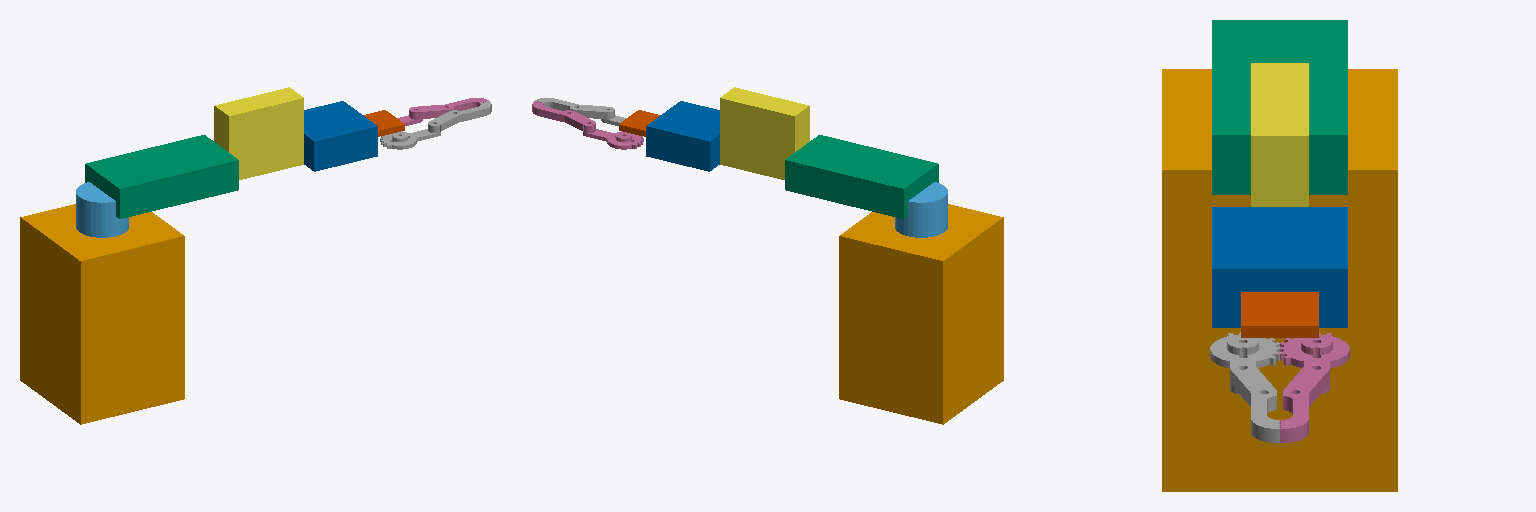
URDF robot description (mrm):
<?xml version="1.0" ?>
<!-- =================================================================================== -->
<!-- |    This document was autogenerated by xacro from arm.xacro                      | -->
<!-- |    EDITING THIS FILE BY HAND IS NOT RECOMMENDED                                 | -->
<!-- =================================================================================== -->
<robot name="mrm">
  <!-- END - Include -->
  <link name="base_link">
    <inertial>
      <mass value="1024"/>
      <origin rpy="0 0 0" xyz="0 0 0.0675"/>
      <inertia ixx="170.667" ixy="0" ixz="0" iyy="170.667" iyz="0" izz="170.667"/>
    </inertial>
    <collision>
      <origin rpy="0 0 0" xyz="0 0 0.0675"/>
      <geometry>
        <box size="0.09 0.09 0.135"/>
      </geometry>
    </collision>
    <visual>
      <origin rpy="0 0 0" xyz="0 0 0.0675"/>
      <geometry>
        <box size="0.09 0.09 0.135"/>
      </geometry>
    </visual>
  </link>
  <link name="link_01">
    <inertial>
      <mass value="0.01"/>
      <origin rpy="0 0 0" xyz="0 0 0.0145"/>
      <inertia ixx="1.0" ixy="0" ixz="0" iyy="1.0" iyz="0" izz="1.0"/>
    </inertial>
    <collision>
      <origin rpy="0 0 0" xyz="0 0 0.0145"/>
      <geometry>
        <cylinder length="0.029" radius="0.02"/>
      </geometry>
    </collision>
    <visual>
      <origin rpy="0 0 0" xyz="0 0 0.0145"/>
      <geometry>
        <cylinder length="0.029" radius="0.02"/>
      </geometry>
    </visual>
  </link>
  <link name="link_02">
    <inertial>
      <mass value="0.1"/>
      <origin rpy="0 0 0" xyz="0.0515 0 0"/>
      <inertia ixx="0.1" ixy="0" ixz="0" iyy="0.1" iyz="0" izz="0.1"/>
    </inertial>
    <collision>
      <origin rpy="0 0 0" xyz="0.0515 0 0"/>
      <geometry>
        <box size="0.103 0.052 0.025"/>
      </geometry>
    </collision>
    <visual>
      <origin rpy="0 0 0" xyz="0.0515 0 0"/>
      <geometry>
        <box size="0.103 0.052 0.025"/>
      </geometry>
    </visual>
  </link>
  <link name="link_03">
    <inertial>
      <mass value="0.1"/>
      <origin rpy="0 0 0" xyz="0.0325 0 0"/>
      <inertia ixx="0.1" ixy="0" ixz="0" iyy="0.1" iyz="0" izz="0.1"/>
    </inertial>
    <collision>
      <origin rpy="0 0 0" xyz="0.0325 0 0"/>
      <geometry>
        <box size="0.065 0.022 0.055"/>
      </geometry>
    </collision>
    <visual>
      <origin rpy="0 0 0" xyz="0.0325 0 0"/>
      <geometry>
        <box size="0.065 0.022 0.055"/>
      </geometry>
    </visual>
  </link>
  <link name="link_04">
    <inertial>
      <mass value="0.1"/>
      <origin rpy="0 0 0" xyz="0.0275 0 0"/>
      <inertia ixx="0.1" ixy="0" ixz="0" iyy="0.1" iyz="0" izz="0.1"/>
    </inertial>
    <collision>
      <origin rpy="0 0 0" xyz="0.0275 0 0"/>
      <geometry>
        <box size="0.055 0.052 0.025"/>
      </geometry>
    </collision>
    <visual>
      <origin rpy="0 0 0" xyz="0.0275 0 0"/>
      <geometry>
        <box size="0.055 0.052 0.025"/>
      </geometry>
    </visual>
  </link>
  <link name="link_05">
    <inertial>
      <mass value="0.1"/>
      <origin rpy="0 0 0" xyz="0.015 0 0"/>
      <inertia ixx="0.1" ixy="0" ixz="0" iyy="0.1" iyz="0" izz="0.1"/>
    </inertial>
    <collision>
      <origin rpy="0 0 0" xyz="0.015 0 0"/>
      <geometry>
        <box size="0.03 0.03 0.005"/>
      </geometry>
    </collision>
    <visual>
      <origin rpy="0 0 0" xyz="0.015 0 0"/>
      <geometry>
        <box size="0.03 0.03 0.005"/>
      </geometry>
    </visual>
  </link>
  <link name="link_clawR">
    <inertial>
      <mass value="0.1"/>
      <origin rpy="0 0 0" xyz="-0.03 -0.014 -0.005"/>
      <inertia ixx="0.1" ixy="0" ixz="0" iyy="0.1" iyz="0" izz="0.1"/>
    </inertial>
    <collision>
      <origin rpy="0 0 0" xyz="-0.03 -0.014 -0.005"/>
      <geometry>
        <mesh filename="package://arm_model/meshes/gripperRight.stl" scale="0.001 0.001 0.001"/>
      </geometry>
    </collision>
    <visual>
      <origin rpy="0 0 0" xyz="-0.03 -0.014 -0.005"/>
      <geometry>
        <mesh filename="package://arm_model/meshes/gripperRight.stl" scale="0.001 0.001 0.001"/>
      </geometry>
      <material name="light_black"/>
    </visual>
  </link>
  <link name="link_clawL">
    <inertial>
      <mass value="0.1"/>
      <origin rpy="0 0 0" xyz="-0.03 0.014 -0.005"/>
      <inertia ixx="0.1" ixy="0" ixz="0" iyy="0.1" iyz="0" izz="0.1"/>
    </inertial>
    <collision>
      <origin rpy="0 0 0" xyz="-0.03 0.014 -0.005"/>
      <geometry>
        <mesh filename="package://arm_model/meshes/gripperLeft.stl" scale="0.001 0.001 0.001"/>
      </geometry>
    </collision>
    <visual>
      <origin rpy="0 0 0" xyz="-0.03 0.014 -0.005"/>
      <geometry>
        <mesh filename="package://arm_model/meshes/gripperLeft.stl" scale="0.001 0.001 0.001"/>
      </geometry>
      <material name="light_black"/>
    </visual>
  </link>
  <joint name="base_link__link_01" type="revolute">
    <axis xyz="0 0 1"/>
    <limit effort="1000" lower="-1.5708" upper="1.5708" velocity="0.5"/>
    <origin rpy="0 0 0" xyz="0 0 0.135"/>
    <parent link="base_link"/>
    <child link="link_01"/>
    <dynamics damping="10.0" friction="10.0"/>
  </joint>
  <joint name="link_01__link_02" type="revolute">
    <axis xyz="0 -1 0"/>
    <limit effort="1000" lower="0.0" upper="1.5708" velocity="0.5"/>
    <origin rpy="0 0 0" xyz="0 0 0.029"/>
    <parent link="link_01"/>
    <child link="link_02"/>
    <dynamics damping="10.0" friction="10.0"/>
  </joint>
  <joint name="link_02__link_03" type="revolute">
    <axis xyz="0 1 0"/>
    <limit effort="1000" lower="-1.5708" upper="1.5708" velocity="0.5"/>
    <origin rpy="0 0 0" xyz="0.103 0 0.015"/>
    <parent link="link_02"/>
    <child link="link_03"/>
    <dynamics damping="10.0" friction="10.0"/>
  </joint>
  <joint name="link_03__link_04" type="revolute">
    <axis xyz="0 1 0"/>
    <limit effort="1000" lower="-1.5708" upper="1.5708" velocity="0.5"/>
    <origin rpy="0 0 0" xyz="0.065 0 -0.015"/>
    <parent link="link_03"/>
    <child link="link_04"/>
    <dynamics damping="10.0" friction="10.0"/>
  </joint>
  <joint name="link_04__link_05" type="fixed">
    <origin rpy="0 0 0" xyz="0.055 0 0"/>
    <parent link="link_04"/>
    <child link="link_05"/>
  </joint>
  <joint name="link_05__link_clawL" type="revolute">
    <axis xyz="0 0 -1"/>
    <limit effort="1000" lower="0.0" upper="0.45" velocity="0.5"/>
    <origin rpy="0 0 0" xyz="0.03 -0.014  -0.00"/>
    <parent link="link_05"/>
    <child link="link_clawL"/>
    <dynamics damping="10.0" friction="10.0"/>
  </joint>
  <joint name="link_05__link_clawR" type="revolute">
    <axis xyz="0 0 1"/>
    <limit effort="1000" lower="0.0" upper="0.45" velocity="0.5"/>
    <origin rpy="0 0 0" xyz="0.03 +0.014  -0.00"/>
    <parent link="link_05"/>
    <child link="link_clawR"/>
    <dynamics damping="10.0" friction="10.0"/>
  </joint>
  <!-- END - Robot description Total weight = 1373.401  ==> 13473.065N-->
  <!-- This plugin will publish the joint_states for the selected joints 
            (which robot_state_publisher can then use to broadcast the approprate tf). -->
  <gazebo>
    <plugin filename="libgazebo_ros_joint_state_publisher.so" name="gazebo_ros_joint_state_publisher">
      <update_rate>20</update_rate>
      <joint_name>base_link__link_01</joint_name>
      <joint_name>link_01__link_02</joint_name>
      <joint_name>link_03__link_04</joint_name>
    </plugin>
  </gazebo>
  <!-- This plugin will read a JointTrajectory message from the /set_joint_trajectory topic 
            and move the machine accordingly. It's a bit clunky but it works. -->
  <!-- You'll probably want to add damping to the joints to stop them it flopping around. 
            e.g. <dynamics damping="10.0" friction="10.0"/> -->
  <!-- Here's an example message to publish to test it:
            ros2 topic pub -1 /set_joint_trajectory trajectory_msgs/msg/JointTrajectory  '{header: {frame_id: world}, joint_names: [slider_joint, arm_joint], points: [  {positions: {0.8,0.6}} ]}' 
            ros2 topic pub -1 /set_joint_trajectory trajectory_msgs/msg/JointTrajectory  '{header: {frame_id: world}, joint_names: [base_link__link_01], points: [  {positions: {1.8}} ]}'
            -->
  <gazebo>
    <plugin filename="libgazebo_ros_joint_pose_trajectory.so" name="gazebo_ros_joint_pose_trajectory">
      <update_rate>2</update_rate>
    </plugin>
  </gazebo>
</robot>

--- What the picture shows (computed from the rendered views, not written in the file) ---
Views: 3 orthographic renders of the robot side by side, from view 1: azimuth 30°, elevation 25°; view 2: azimuth 150°, elevation 25°; view 3: azimuth 270°, elevation 25°.
Model mrm with 8 links and 7 joints (6 revolute, 1 fixed), rooted at base_link, posed all joints at 0.
Visible links, largest first — view 1: base_link, link_02, link_03, link_04, link_01, link_clawL, link_clawR, link_05; view 2: base_link, link_02, link_03, link_04, link_01, link_clawR, link_clawL, link_05; view 3: base_link, link_02, link_04, link_03, link_clawR, link_clawL, link_05.
Boxes of the visible links, box(x1,y1,x2,y2) form: base_link: box(20, 204, 184, 424); link_02: box(85, 135, 238, 218); link_03: box(214, 87, 303, 179); link_04: box(304, 101, 377, 171); link_01: box(76, 182, 128, 237); link_clawL: box(380, 101, 491, 149); link_clawR: box(397, 98, 488, 125); link_05: box(364, 110, 404, 136); base_link: box(839, 204, 1003, 424); link_02: box(785, 135, 938, 218); link_03: box(720, 87, 809, 179); link_04: box(646, 101, 719, 171); link_01: box(895, 182, 947, 237); link_clawR: box(532, 101, 643, 149); link_clawL: box(535, 98, 626, 125); link_05: box(619, 110, 659, 136); base_link: box(1162, 69, 1397, 491); link_02: box(1212, 20, 1347, 194); link_04: box(1212, 207, 1347, 327); link_03: box(1251, 63, 1308, 206); link_clawR: box(1279, 332, 1349, 442); link_clawL: box(1210, 332, 1280, 442); link_05: box(1241, 292, 1318, 337).
Bounding box of the posed robot: 0.379 × 0.09 × 0.2065 m (x, y, z).
2 mesh visuals loaded from 2 distinct referenced files (2 binary STL).